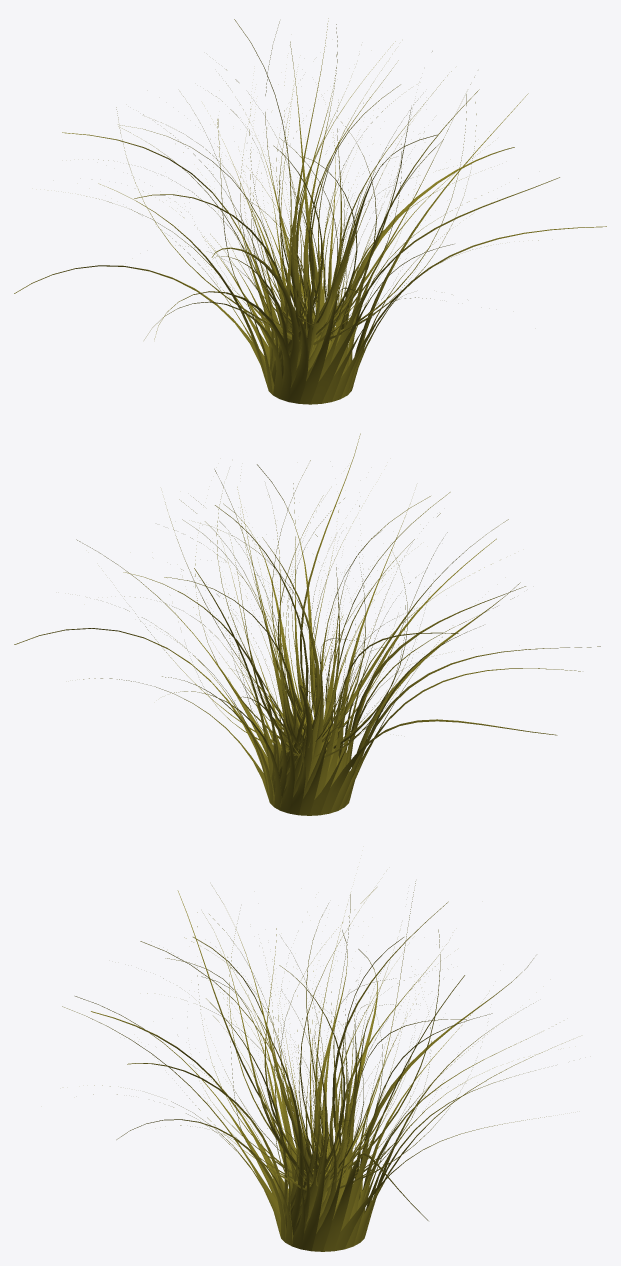
The model's file is Spikey_Plant.fbx.
3 renders of one model, top to bottom at view 1: azimuth 30°, elevation 25°; view 2: azimuth 150°, elevation 25°; view 3: azimuth 270°, elevation 25°, orthographic. The views are drawn at different scales.
Visible parts, largest first — view 1: Spikey_Plant; view 2: Spikey_Plant; view 3: Spikey_Plant.
Boxes of the visible parts, box(x1,y1,x2,y2) form: Spikey_Plant: box(14, 18, 606, 404); Spikey_Plant: box(14, 433, 600, 815); Spikey_Plant: box(62, 881, 569, 1251).
Size of the model in its own units: 364 by 223 by 347.
